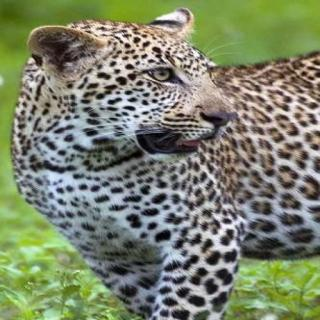Leopard: (15, 17, 320, 299)
